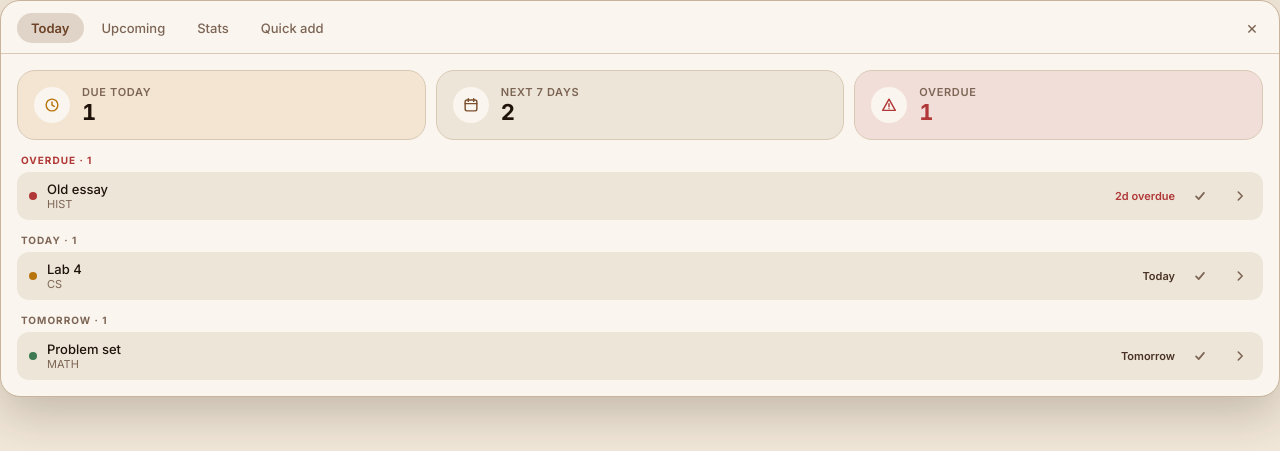
QuickPanel › Stats tab shows the three rings
Click the tab "Stats": (213, 28) [183,13,243,43]
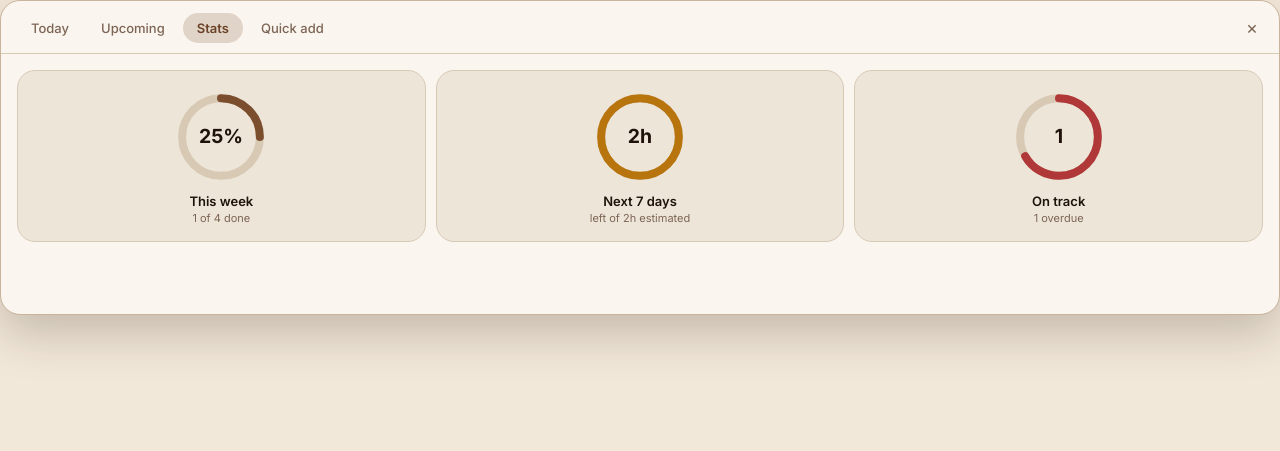
Expected: the picture named "On track: 1. 1 overdue" is shown, [1011,89,1107,185]
Expected: the picture named "This week: 25%. 1 of 4 done" is shown, [173,89,269,185]
Expected: the picture named "Next 7 days: 2h" is shown, [592,89,688,185]
